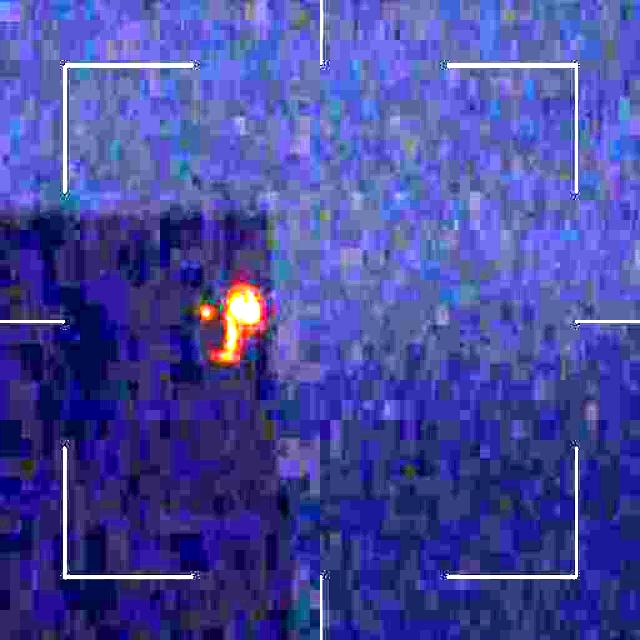bird: (191, 282, 264, 376)
